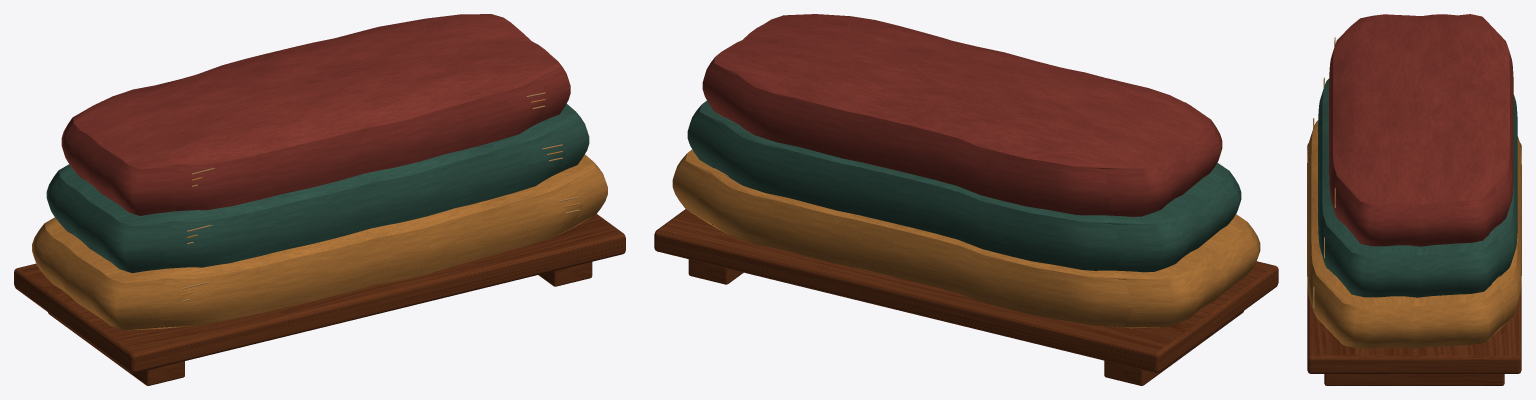
Rendered from juk-bedding.glb.
The picture shows the model from 3 angles, left to right: view 1: azimuth 30°, elevation 25°; view 2: azimuth 150°, elevation 25°; view 3: azimuth 270°, elevation 25°; orthographic projection. The views are drawn at different scales.
Parts seen in each view (by area): view 1: Juk folded bedding; view 2: Juk folded bedding; view 3: Juk folded bedding.
Part boxes in pixels (x1=…): Juk folded bedding: x1=14, y1=14, x2=625, y2=385; Juk folded bedding: x1=654, y1=14, x2=1278, y2=385; Juk folded bedding: x1=1307, y1=14, x2=1521, y2=385.
Size of the model in its own units: 1.37 by 0.5588 by 0.5611.
5 materials, 5 textured.
